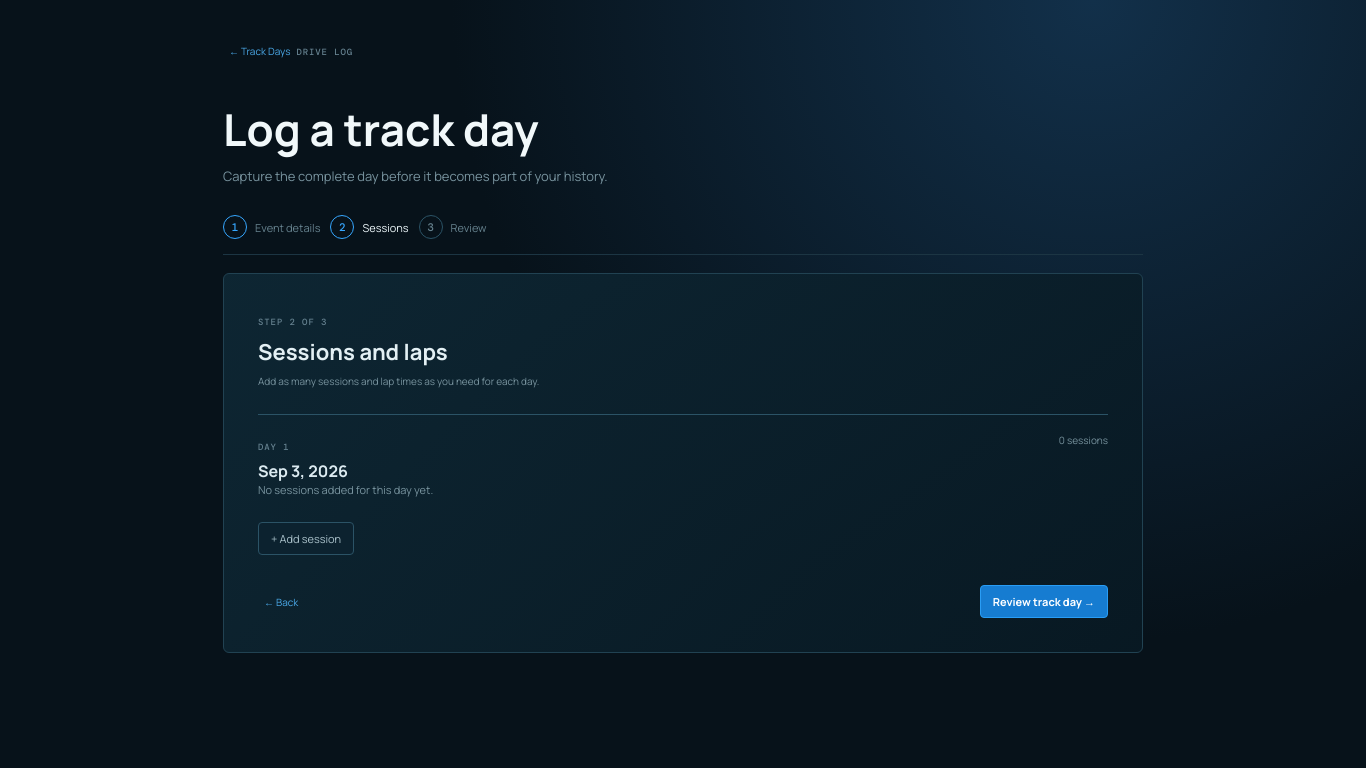
Test: TrackDayCreateComponent › adds an empty editable session
The width and height of the screenshot is (1366, 768).
Click the button with class "add-session-button" at (306, 538), box [258,522,354,555]
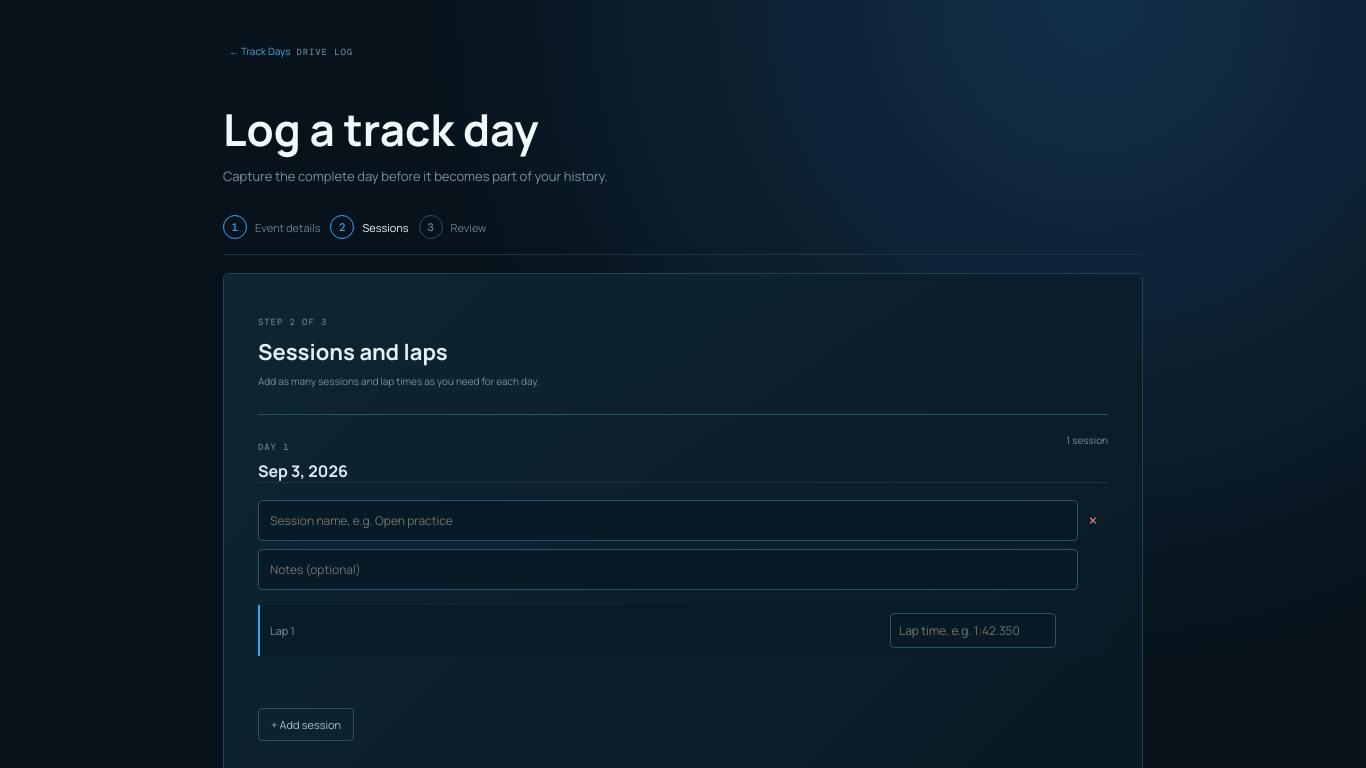
Expected: the number of elements with class "draft-session" is 1, [258,482,1108,683]
Expected: the field named "Session name" is empty, [258,500,1078,541]
